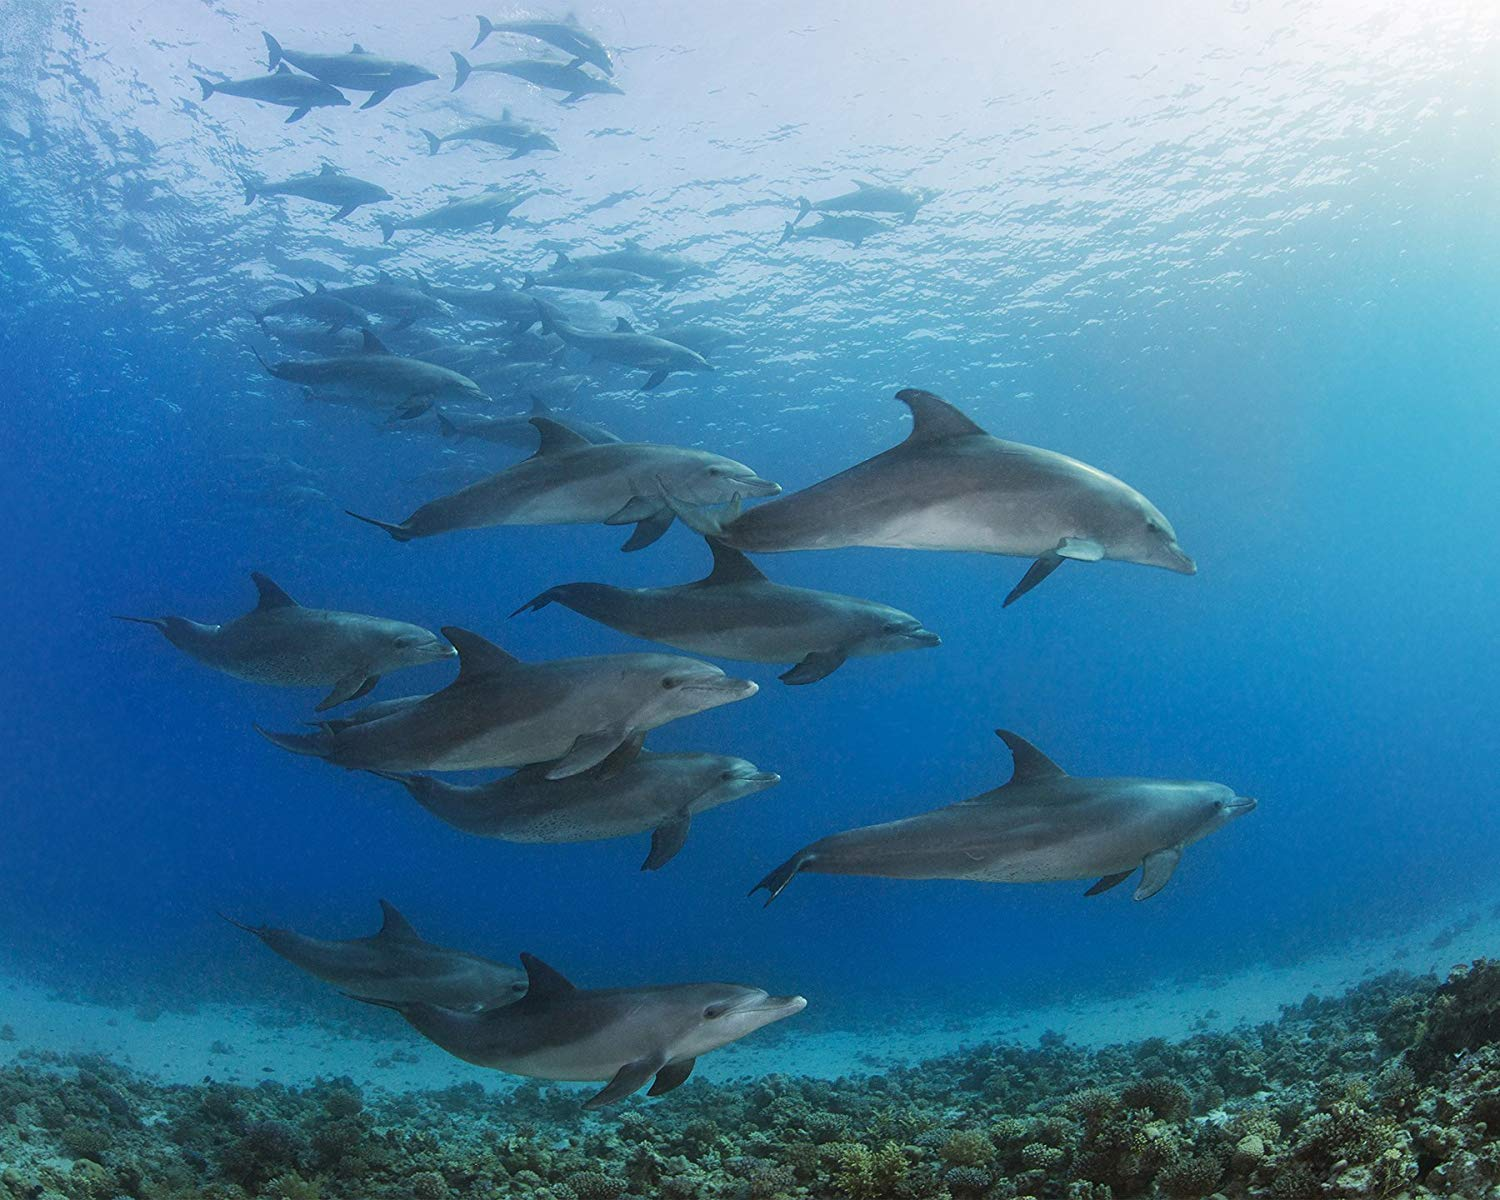dolphin: (688, 384, 1196, 631), (743, 713, 1291, 934), (253, 615, 767, 786), (356, 420, 807, 556), (396, 948, 825, 1081), (536, 545, 951, 676), (100, 571, 454, 714), (238, 906, 549, 1008)
